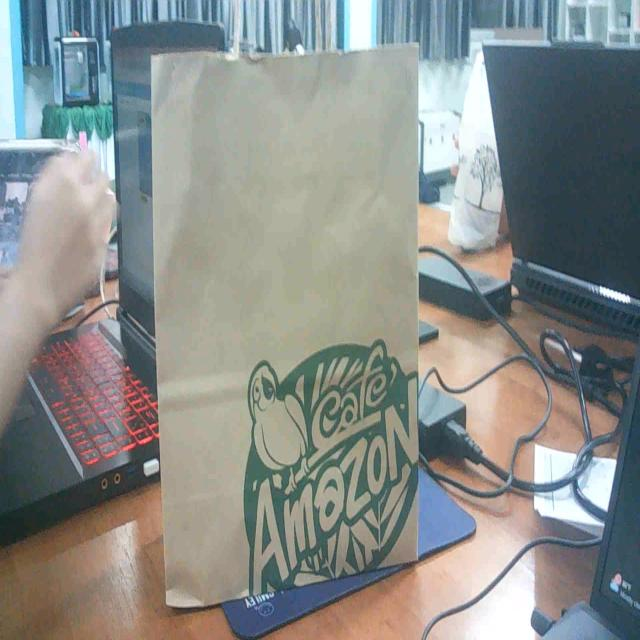bag: (140, 22, 433, 598)
